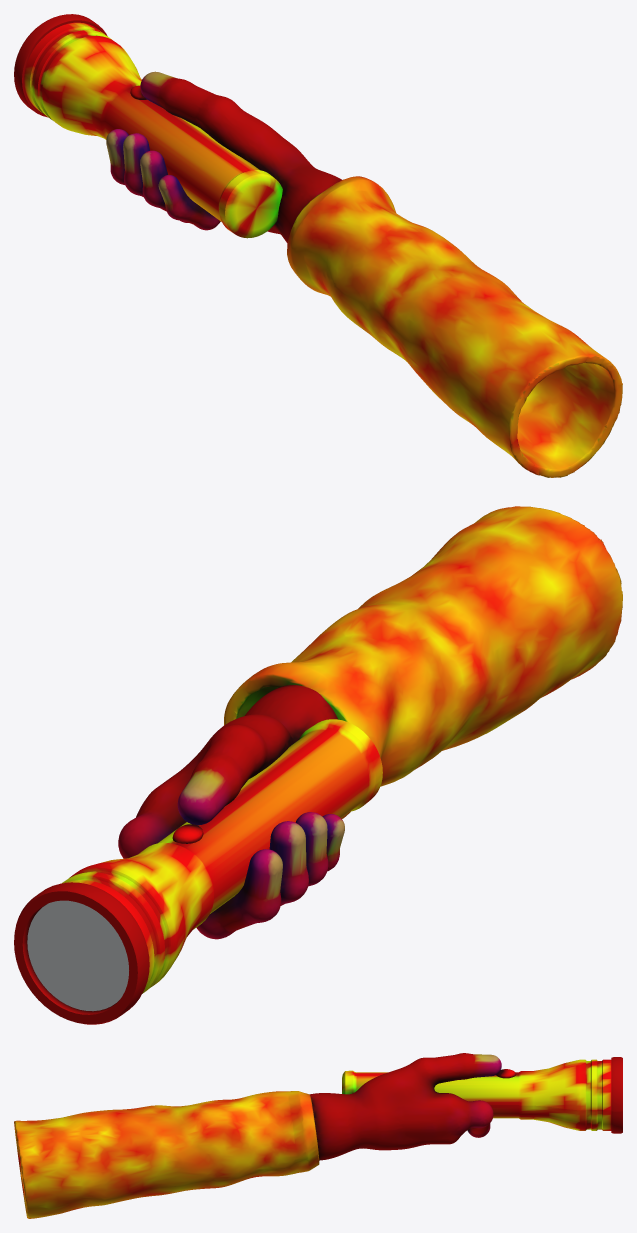
Rendered from flashlight_hand.fbx.
3 views of the same model, one above another, from view 1: azimuth 30°, elevation 25°; view 2: azimuth 150°, elevation 25°; view 3: azimuth 270°, elevation 25° (orthographic). The views are drawn at different scales.
Parts seen in each view (by area): view 1: Sleeve, FlashlightBody, Hand, Bezel; view 2: Sleeve, FlashlightBody, Hand, Lens, Bezel; view 3: Sleeve, Hand, FlashlightBody, Bezel.
Boxes of the visible parts, x1,y1,x2,y2 form: Sleeve: (287,176,622,477); FlashlightBody: (24,22,282,238); Hand: (106,71,341,243); Bezel: (14,14,107,117); Sleeve: (224,506,622,818); FlashlightBody: (61,719,382,993); Hand: (118,685,344,939); Lens: (27,900,128,1011); Bezel: (14,882,149,1024); Sleeve: (14,1091,319,1218); Hand: (309,1053,501,1160); FlashlightBody: (342,1059,611,1130); Bezel: (611,1057,622,1133).
Bounding box in the file's own units: 2.42 × 2.27 × 9.27.
